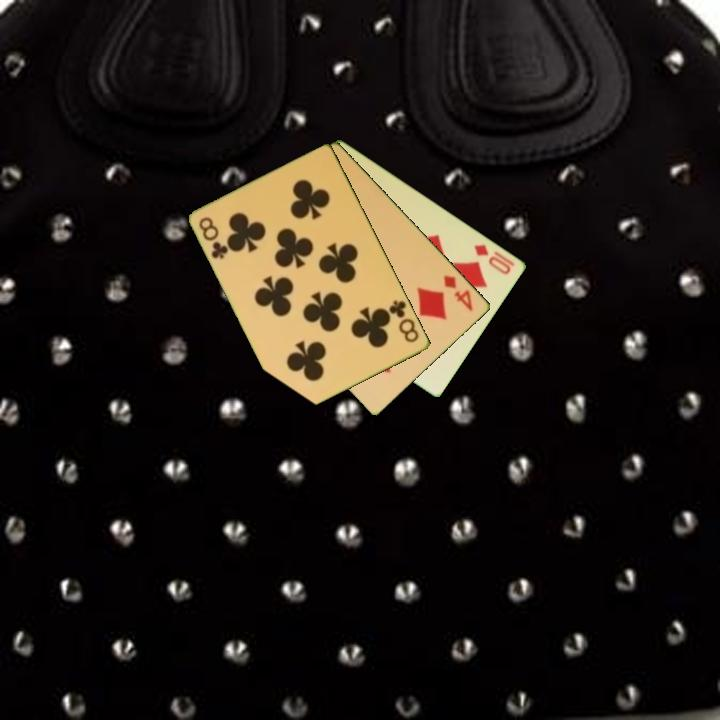10d: (471, 240, 518, 278)
4d: (440, 271, 476, 314)
8c: (385, 297, 422, 346), (196, 213, 232, 262)
